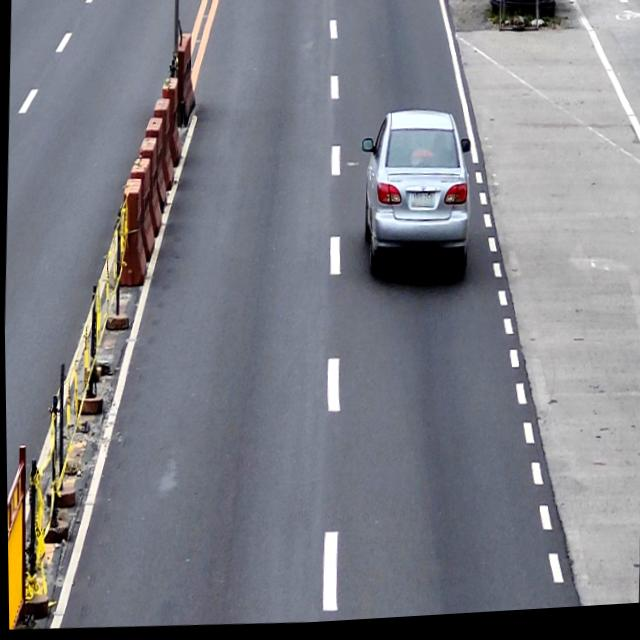Car: (359, 112, 473, 279)
